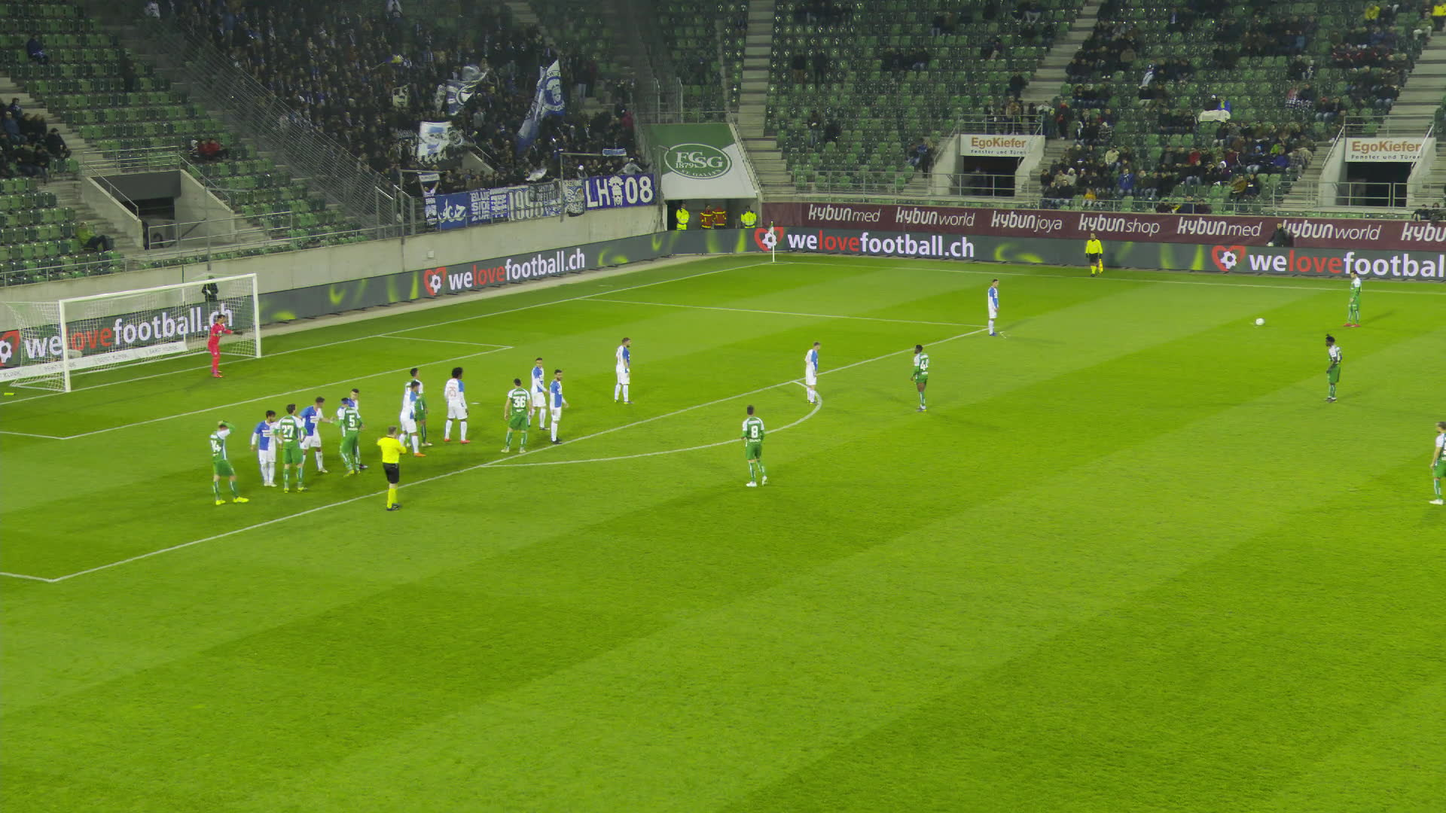ball: (1255, 318, 1263, 324)
player: (208, 419, 247, 504), (272, 403, 307, 492), (297, 394, 334, 472), (331, 397, 367, 477), (250, 409, 282, 486), (740, 405, 767, 486), (502, 377, 531, 452), (340, 388, 366, 469), (443, 367, 471, 442), (398, 381, 425, 457), (405, 367, 430, 446), (206, 314, 235, 378), (1425, 420, 1445, 504), (527, 357, 550, 429), (1322, 334, 1342, 402), (548, 370, 566, 444), (910, 344, 929, 410), (614, 337, 633, 403), (1341, 270, 1361, 327), (804, 342, 820, 404), (986, 279, 999, 335)
referee: (375, 425, 407, 510), (1085, 233, 1102, 276)
